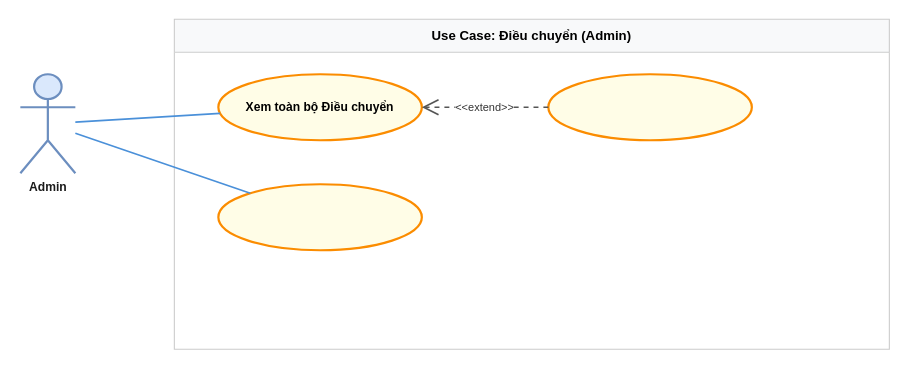
This 909x369 diagram has some shape labels left out. The shapes that lost their labels are listed below. From the top down, each one's centre as x and y in pixels, then its label:
the point at 649,107: Xuất báo cáo Điều chuyển
the point at 319,217: Hủy phiếu Điều chuyển (đã xử lý)
